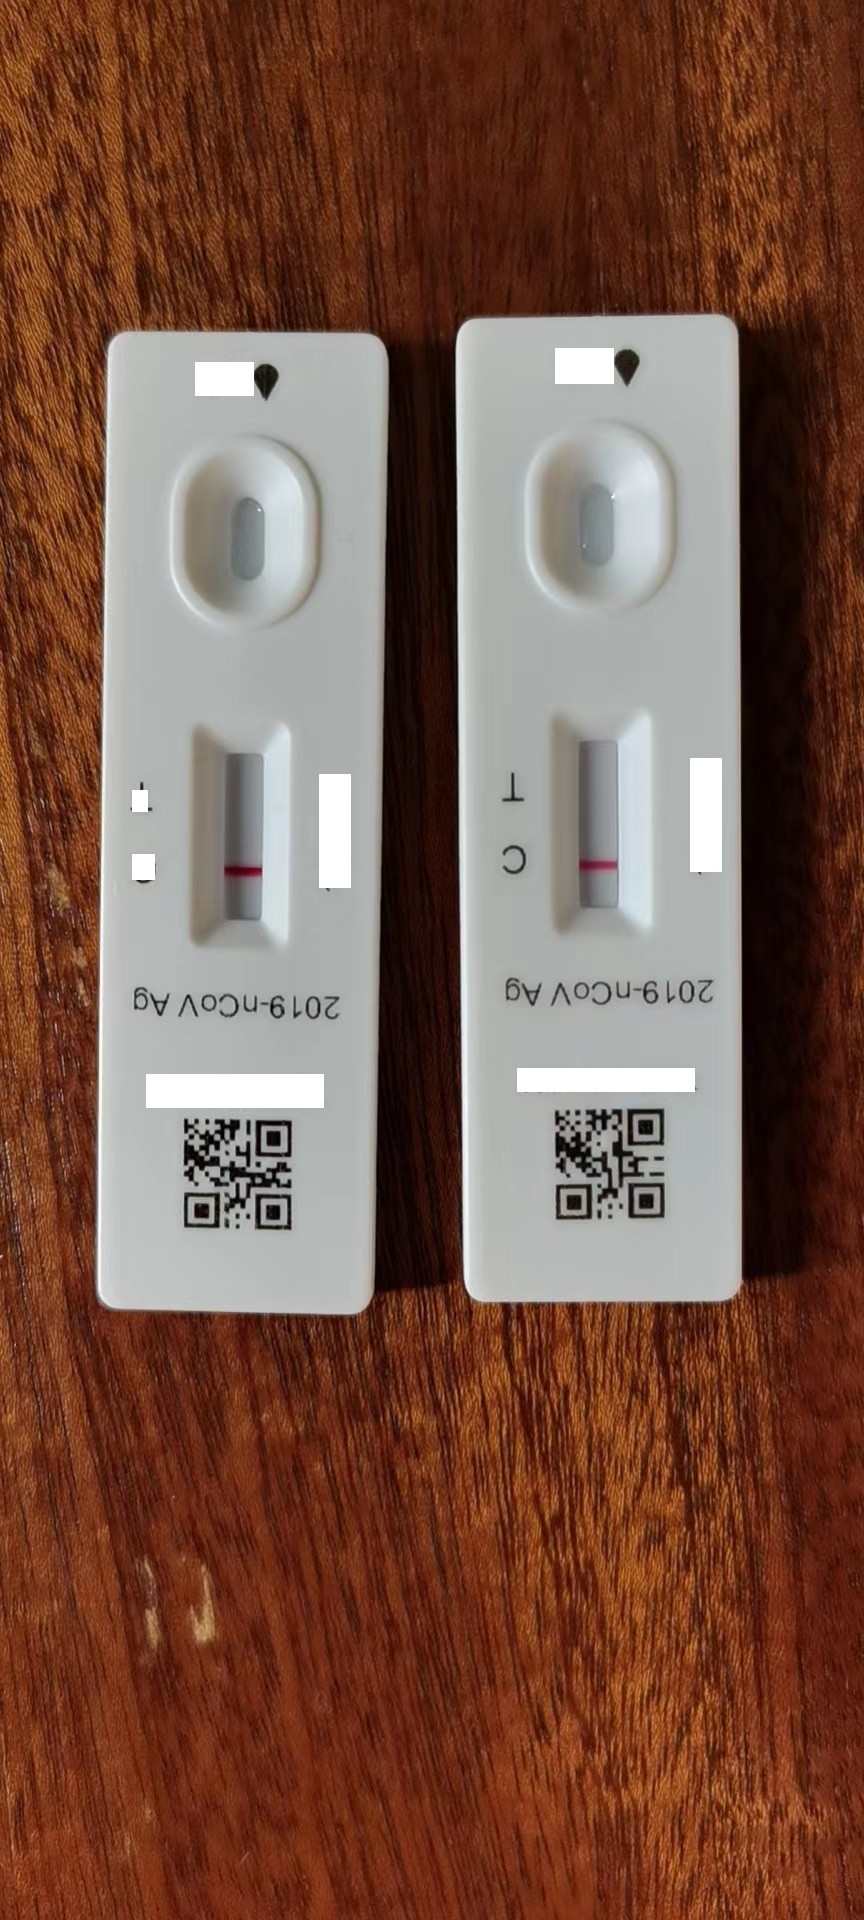negative: (553, 709, 650, 937), (188, 724, 281, 953)
